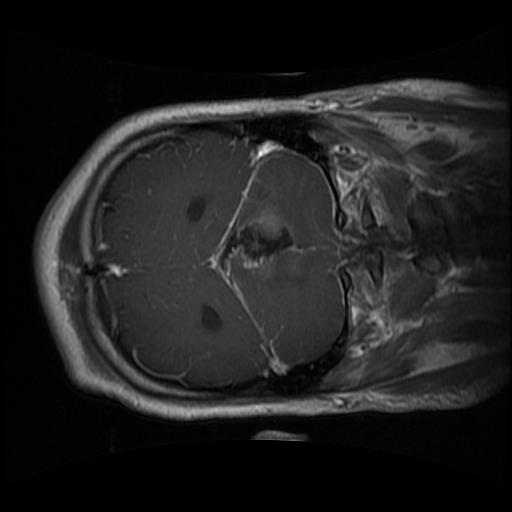glioma: (215, 205, 298, 275)
